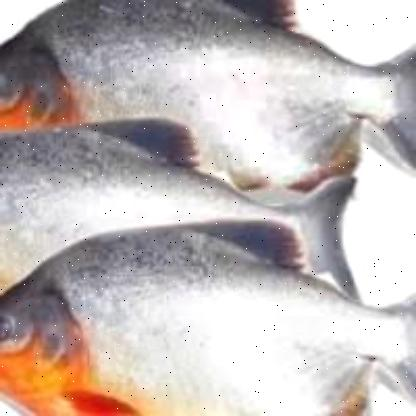ikan-pacu: (4, 228, 416, 416), (0, 0, 414, 170)
